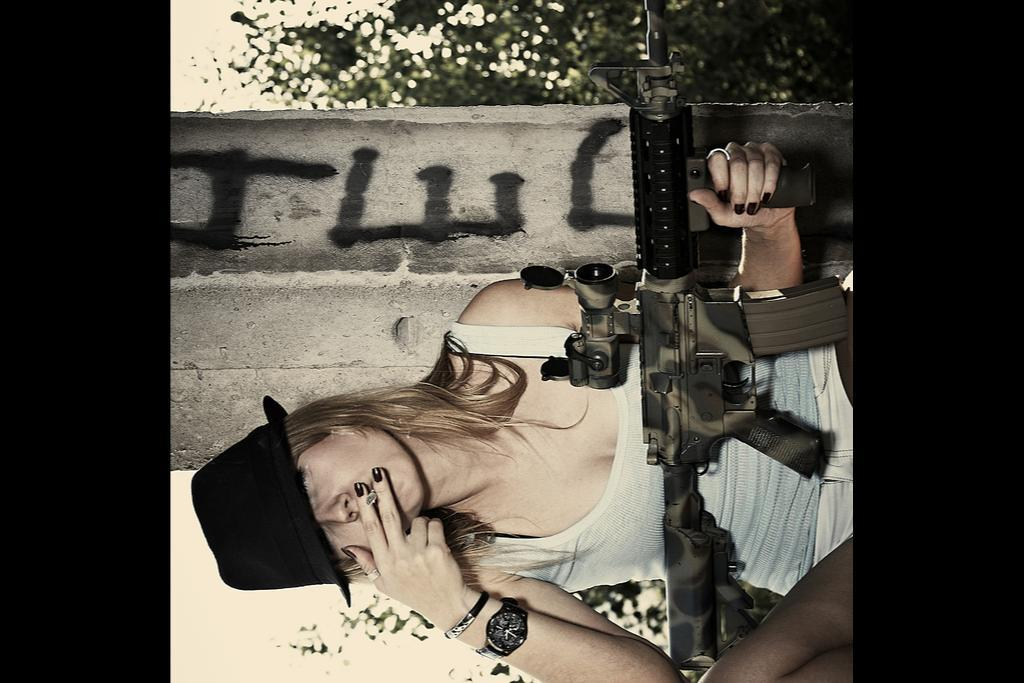gun: (517, 0, 832, 662)
